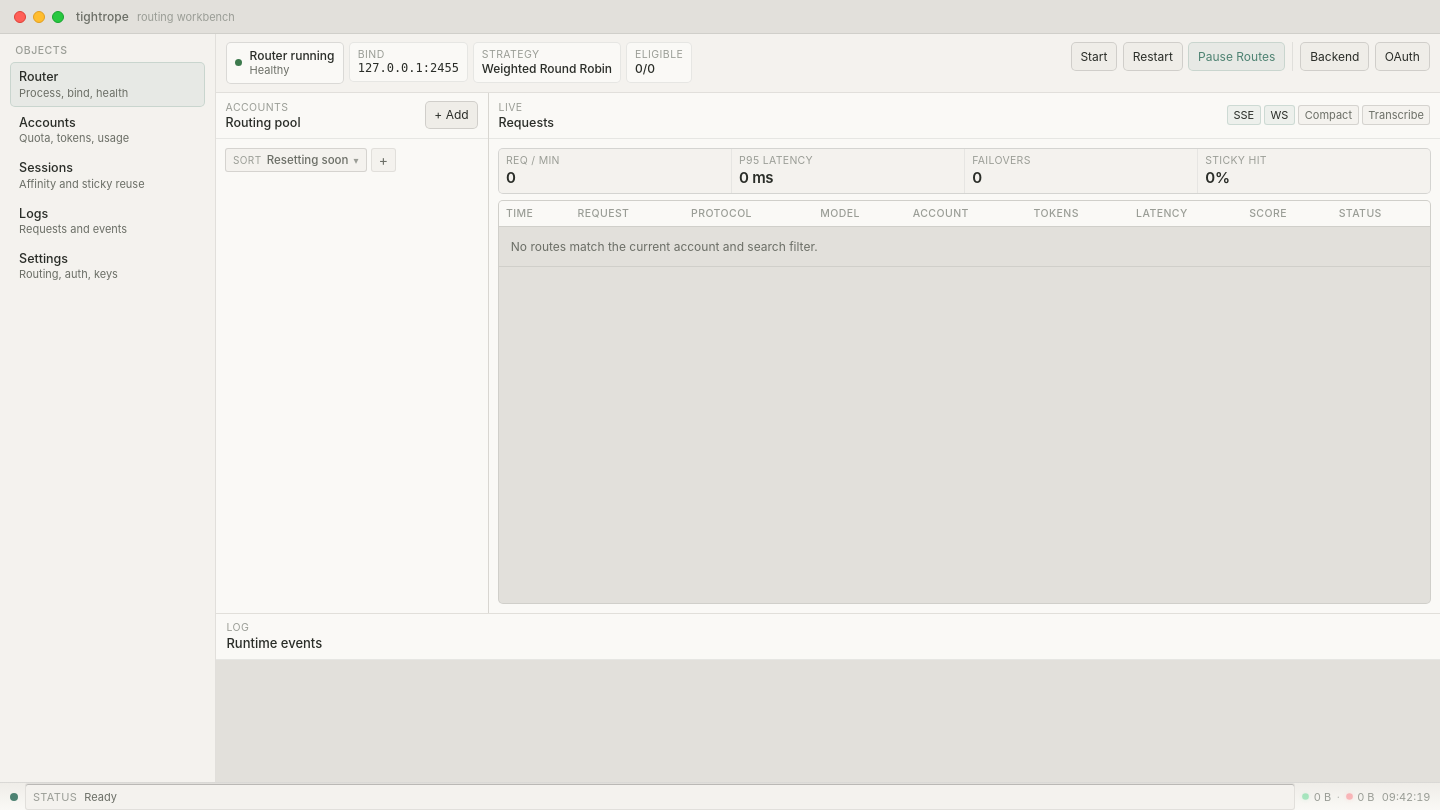
App › switches pages from the navigation rail
Expected: the heading "Routing pool" is shown, x1=226 y1=115 x2=301 y2=130
Step 1. Click the button "Accounts Quota, tokens, usage" → (108, 130), box x1=10 y1=108 x2=205 y2=152
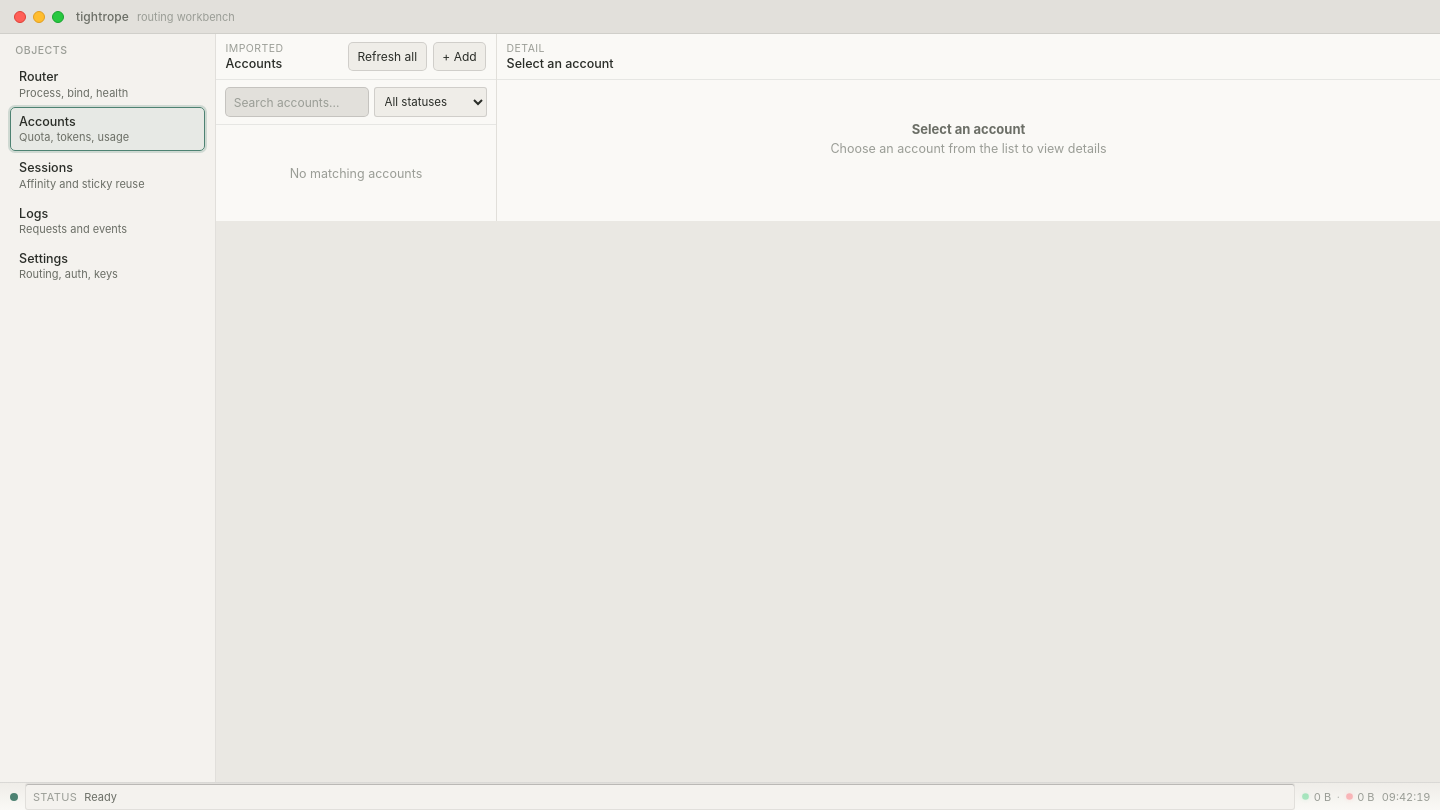
Expected: the heading "Accounts" is shown, x1=226 y1=56 x2=283 y2=71
Step 2. Click the button "Sessions Affinity and sticky reuse" → (108, 175), box x1=10 y1=153 x2=205 y2=198
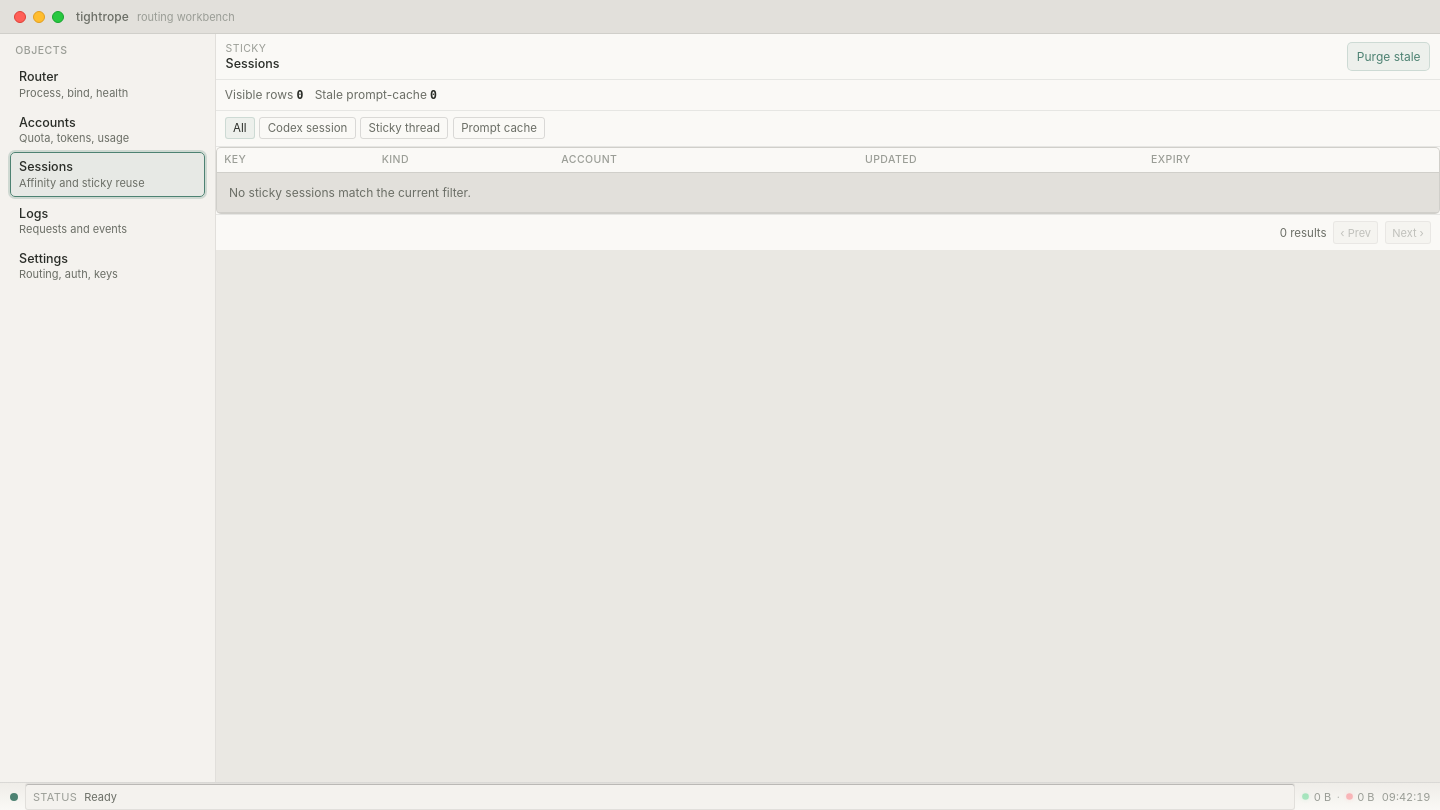
Expected: the heading "Sessions" is shown, x1=226 y1=56 x2=279 y2=71
